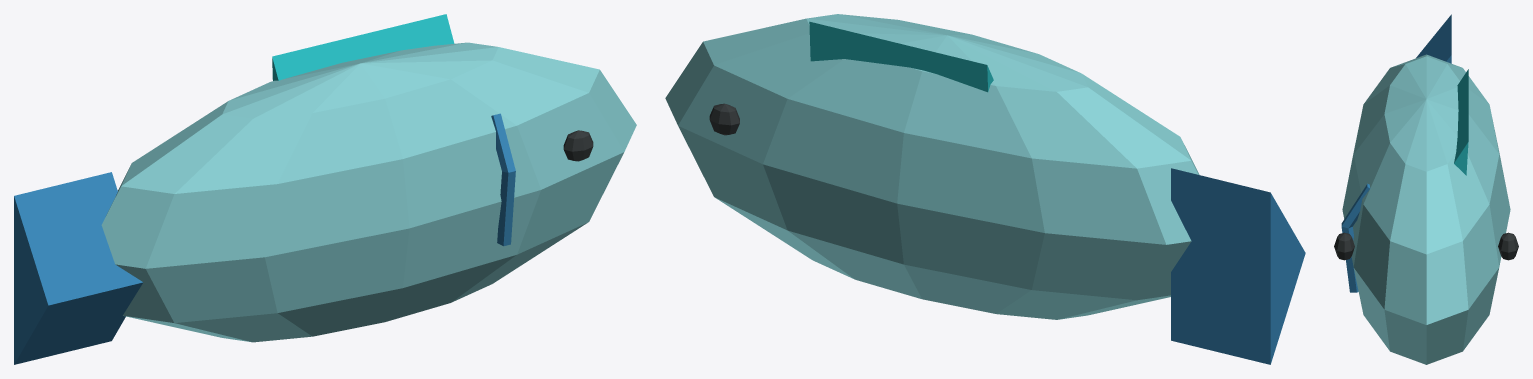
Rendered from AQUA-028.glb.
The picture shows the model from 3 angles, left to right: view 1: azimuth 30°, elevation 25°; view 2: azimuth 150°, elevation 25°; view 3: azimuth 270°, elevation 25°; orthographic projection. The views are drawn at different scales.
Parts seen in each view (by area): view 1: AQUA-028; view 2: AQUA-028; view 3: AQUA-028.
Boxes of the visible parts, box(x1,y1,x2,y2) form: AQUA-028: box(14, 14, 636, 364); AQUA-028: box(665, 14, 1305, 364); AQUA-028: box(1334, 14, 1518, 364).
Bounding box in the file's own units: 1.43 × 0.59 × 0.44.
